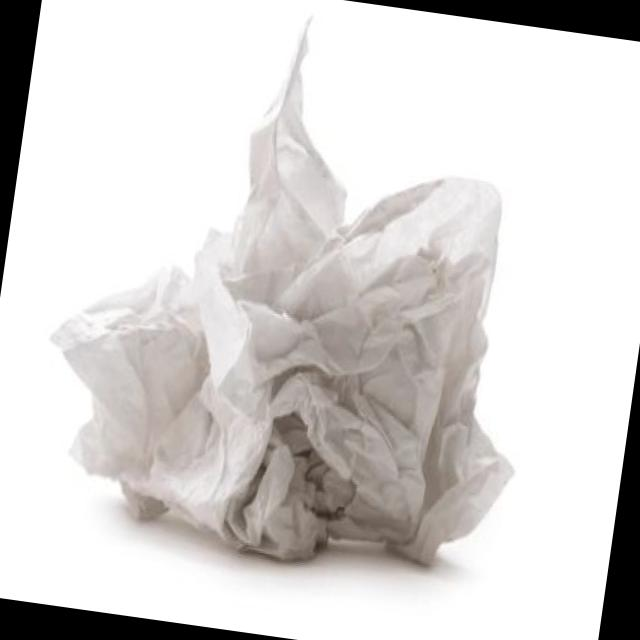electronic: (24, 0, 573, 590)
